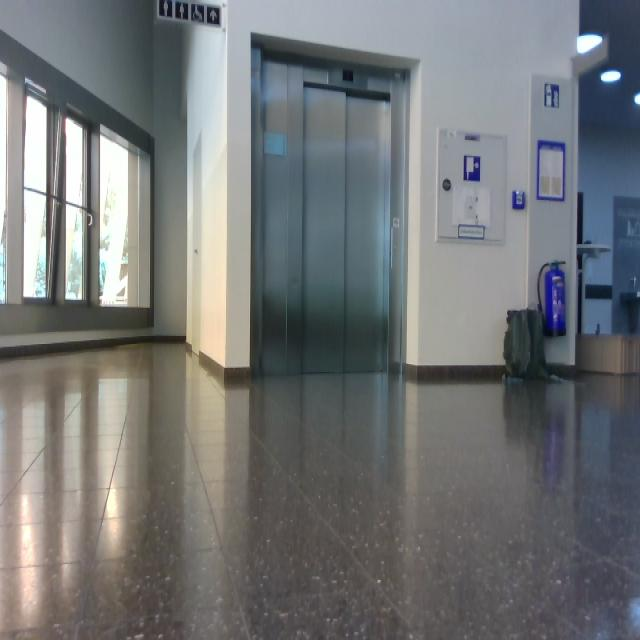door: (253, 49, 409, 377)
fire extinguisher: (538, 260, 567, 337)
light bulb: (576, 33, 603, 54), (600, 69, 622, 84), (633, 92, 640, 106)
tiled floor: (2, 340, 639, 638)
window: (1, 57, 154, 329)
